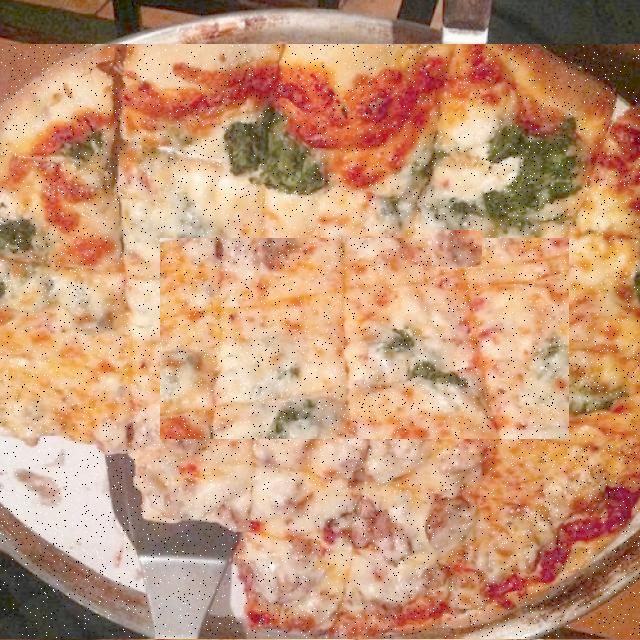Cheese: (160, 239, 569, 439)
Mushrooms: (234, 128, 314, 184), (167, 132, 222, 192), (432, 231, 482, 267)
Pizza: (0, 45, 640, 638)
